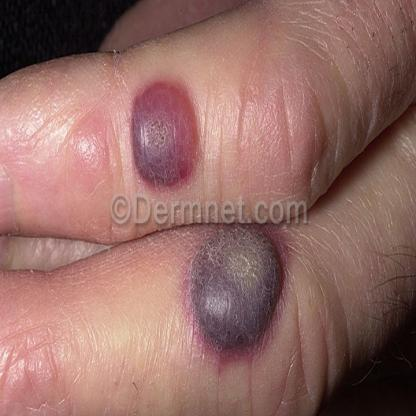Warts: (124, 72, 205, 190)
